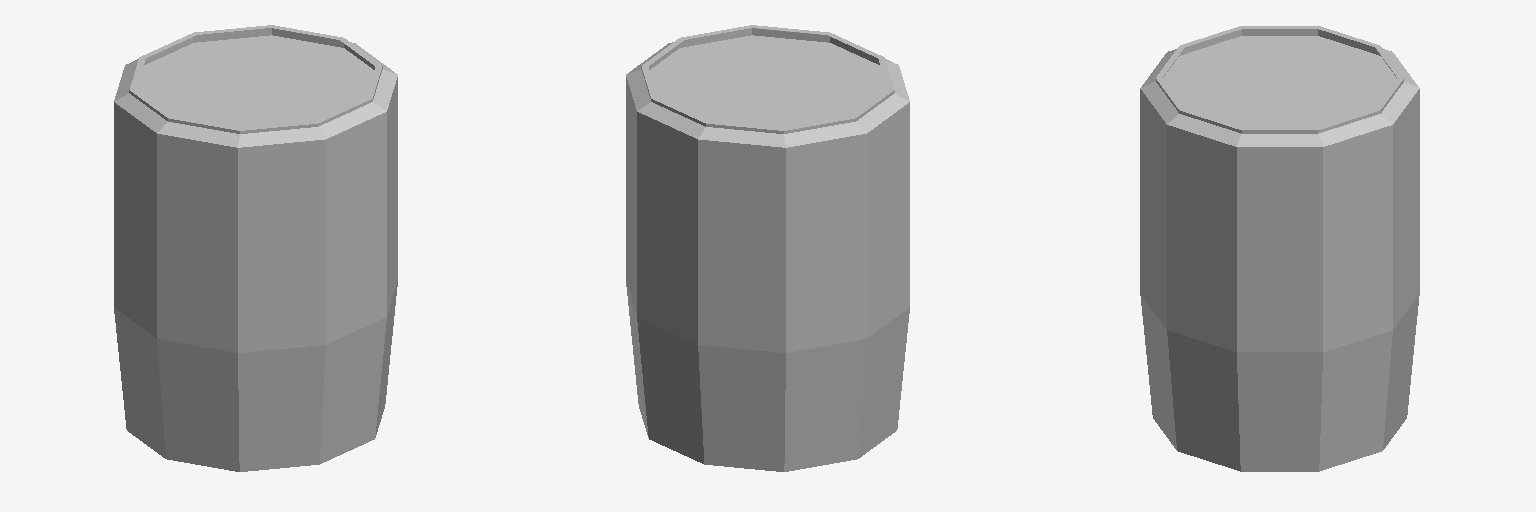
The model's file is SodaCan_Topping.obj.
3 renders of one model, left to right at view 1: azimuth 30°, elevation 25°; view 2: azimuth 150°, elevation 25°; view 3: azimuth 270°, elevation 25°, orthographic.
Visible parts, largest first — view 1: SodaCan; view 2: SodaCan; view 3: SodaCan.
Boxes of the visible parts, x1=… form: SodaCan: x1=114, y1=25, x2=397, y2=471; SodaCan: x1=626, y1=25, x2=909, y2=471; SodaCan: x1=1140, y1=26, x2=1419, y2=471.
Bounding box in the file's own units: 1.82 × 2.57 × 1.83.